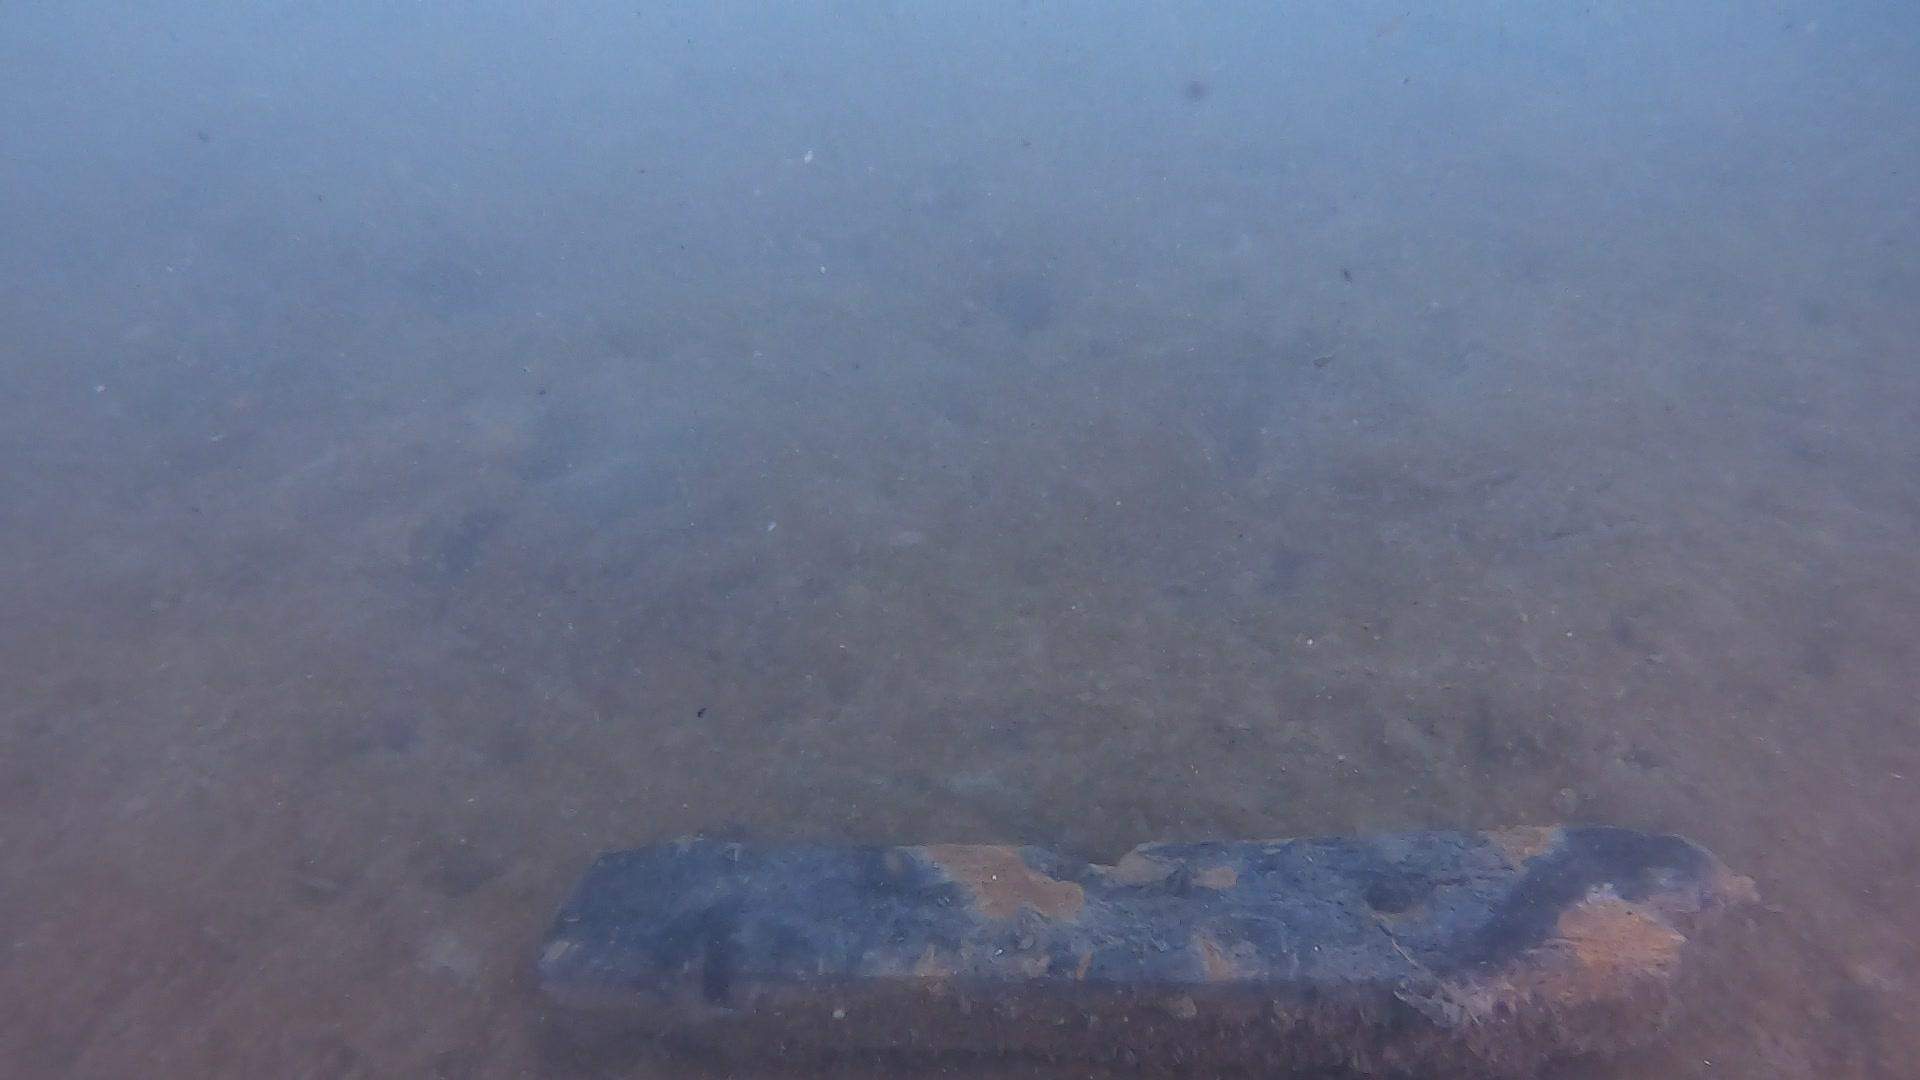wood: (527, 819, 1768, 1080)
